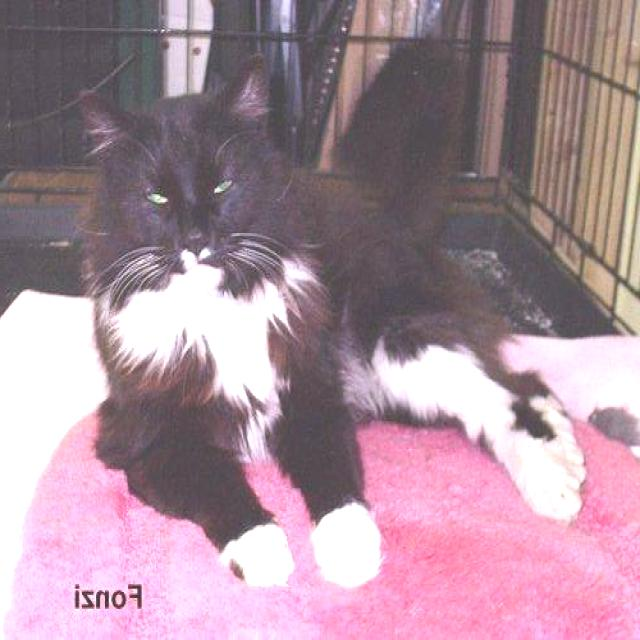Kucing: (55, 54, 597, 586)
